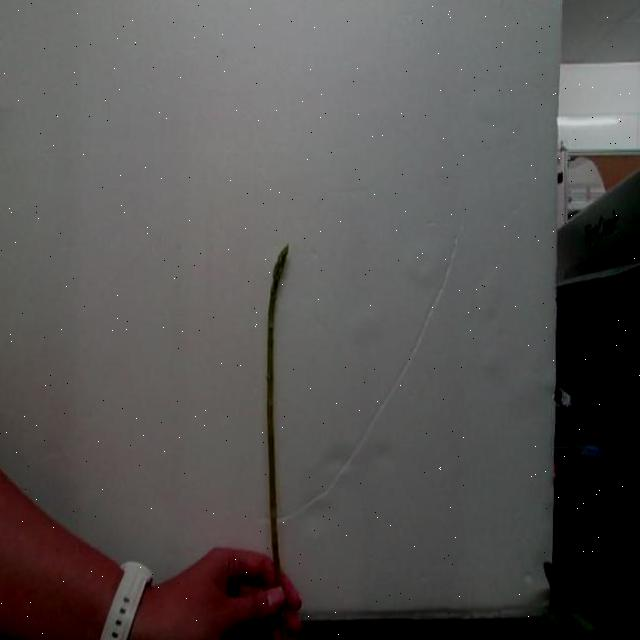aspargus: (263, 248, 287, 588)
